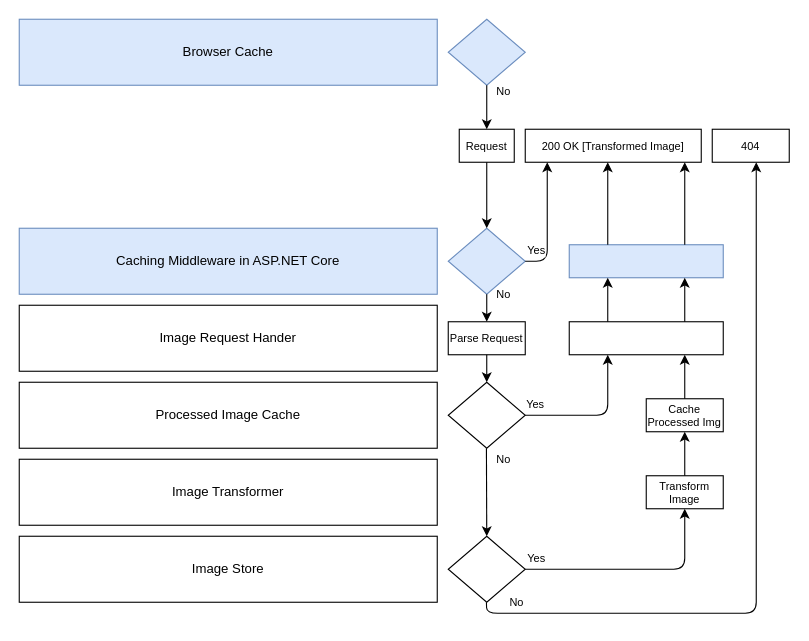
The diagram is 809 pixels wide and 641 high, and some of its shapes have lost their labels. The shapes that lost their labels are listed below. From the top down, each one's centre as x and y in pixels, then its label:
At point 486,51: "Image cached?".
At point 486,260: "Response Exists?".
At point 645,261: "Cache Response".
At point 645,338: "Response Stream".
At point 486,414: "Cached Img Exists?".
At point 486,568: "Origin Img Exists?".
